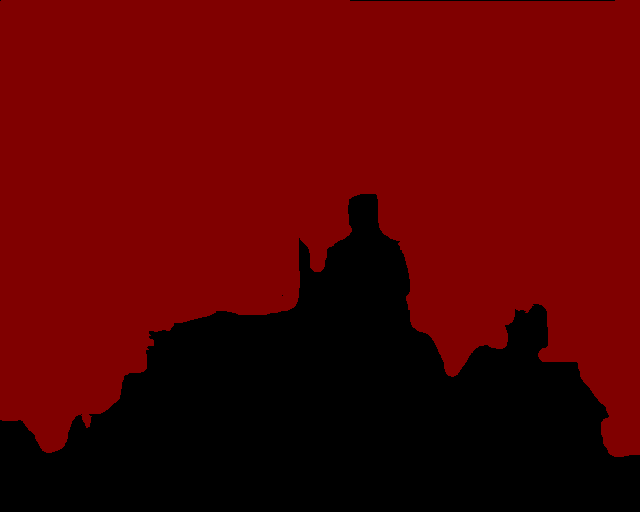Sky: (1, 1, 639, 456)
